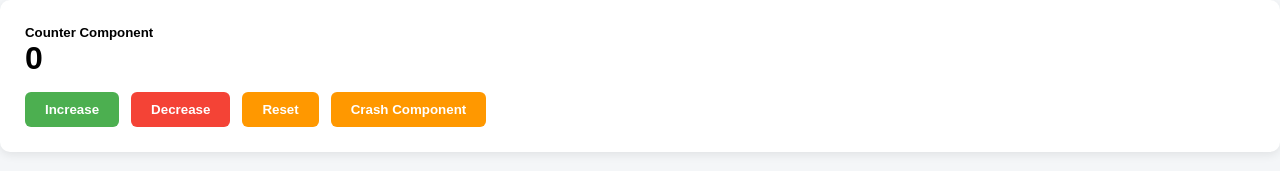
Test: Counter App › increase works
What coordinates should you click on to do the following:
click the button "Increase"
I would click on:
 (72, 110)
Its box is left=25, top=92, right=119, bottom=127.
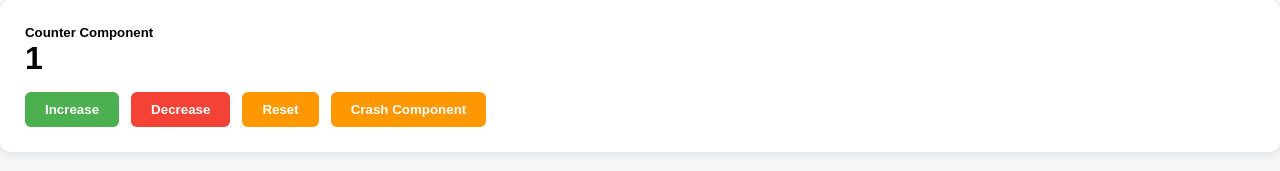
Check: the heading "1" is shown, box left=25, top=40, right=43, bottom=76
